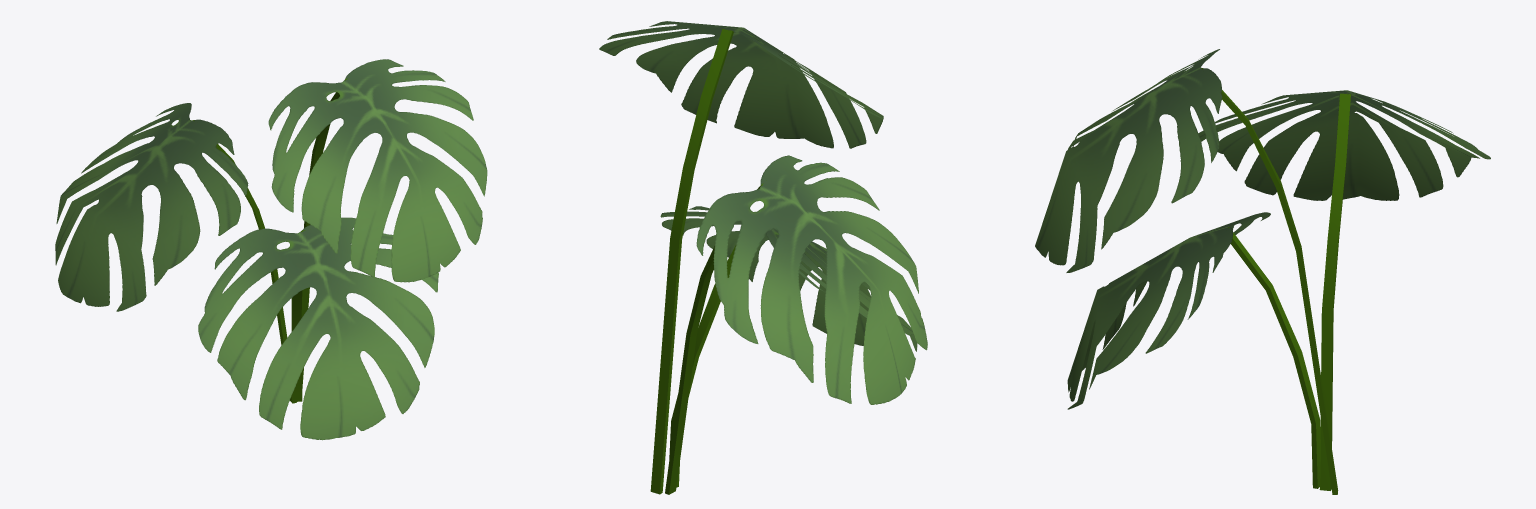
Rendered from Monstera_001.fbx.
3 renders of one model, left to right at view 1: azimuth 30°, elevation 25°; view 2: azimuth 150°, elevation 25°; view 3: azimuth 270°, elevation 25°, orthographic. The views are drawn at different scales.
Parts seen in each view (by area): view 1: Monstera_001; view 2: Monstera_001; view 3: Monstera_001.
Boxes of the visible parts, box(x1,y1,x2,y2) form: Monstera_001: box(55, 59, 487, 440); Monstera_001: box(599, 21, 927, 494); Monstera_001: box(1035, 49, 1490, 494).
Size of the model in its own units: 7.37 by 7.21 by 7.48.
Materials: 2 (1 with a texture image).
